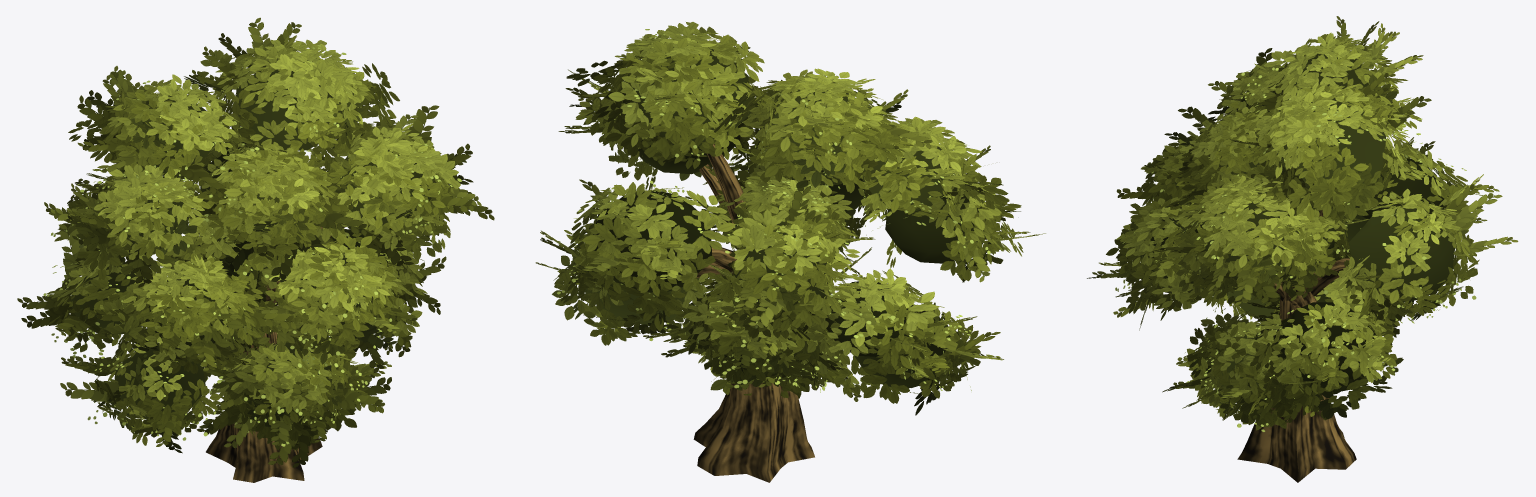
The model's file is AraTree04.glb.
The picture shows the model from 3 angles, left to right: view 1: azimuth 30°, elevation 25°; view 2: azimuth 150°, elevation 25°; view 3: azimuth 270°, elevation 25°; orthographic projection. The views are drawn at different scales.
Parts seen in each view (by area): view 1: AraTree04_leaves; view 2: AraTree04_leaves; view 3: AraTree04_leaves.
Boxes of the visible parts, x1=… form: AraTree04_leaves: x1=17, y1=17, x2=494, y2=482; AraTree04_leaves: x1=535, y1=22, x2=1045, y2=482; AraTree04_leaves: x1=1087, y1=16, x2=1518, y2=482.
Bounding box in the file's own units: 8.56 × 7.74 × 7.91.
Materials: 3 (2 with a texture image).
